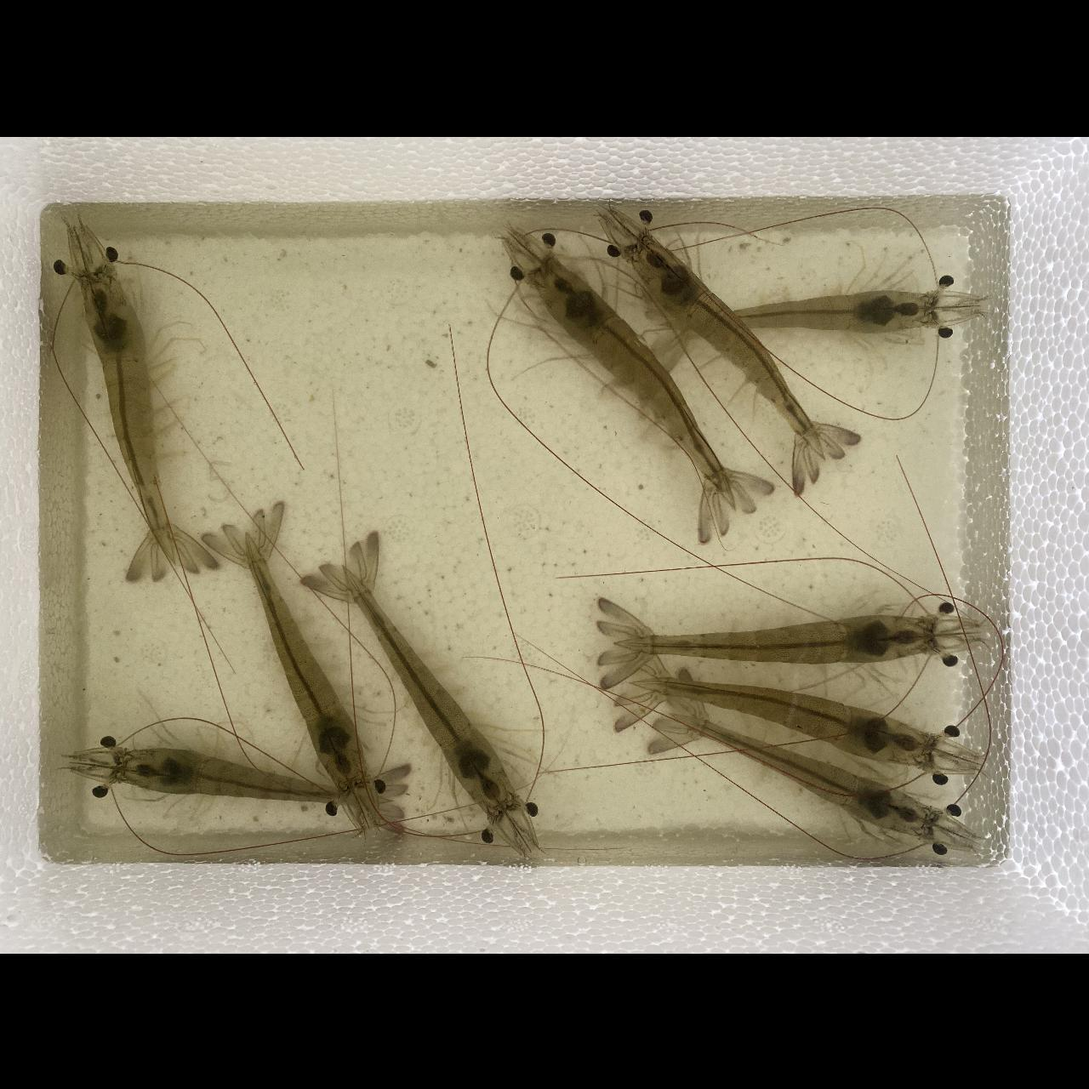top_shrimp: (538, 259, 733, 502), (633, 238, 824, 453), (342, 572, 509, 808), (681, 715, 927, 834), (245, 543, 364, 788), (641, 677, 931, 764), (85, 272, 172, 558), (618, 614, 931, 662), (648, 289, 931, 334), (119, 749, 356, 800)
